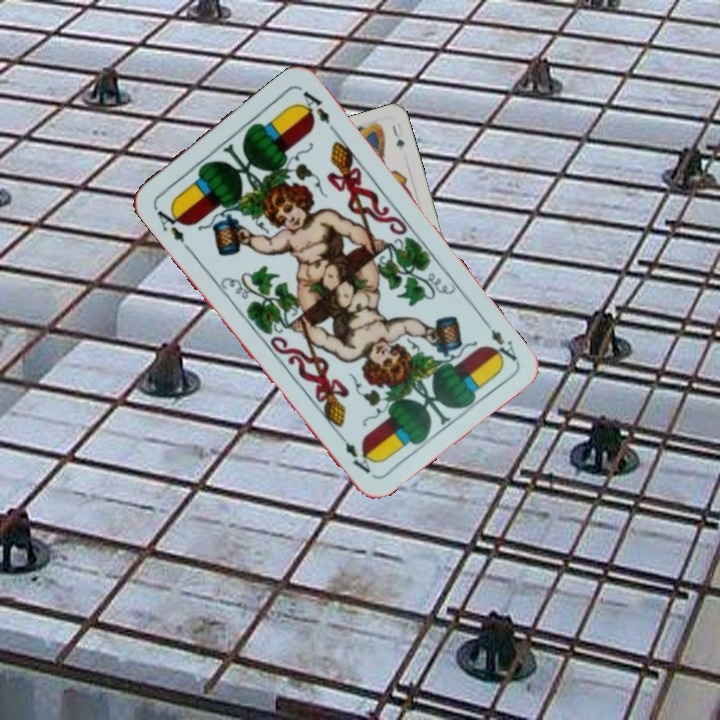EA: (478, 314, 520, 368), (150, 201, 188, 245)
